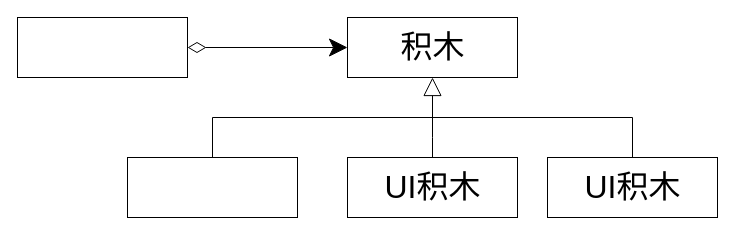
This 735x235 diagram has some shape labels left out. The box of each missing label's shape, as (x1, y1, x2, y2) in pixels:
引擎积木: (126, 156, 298, 218)
编辑器: (16, 16, 188, 78)
